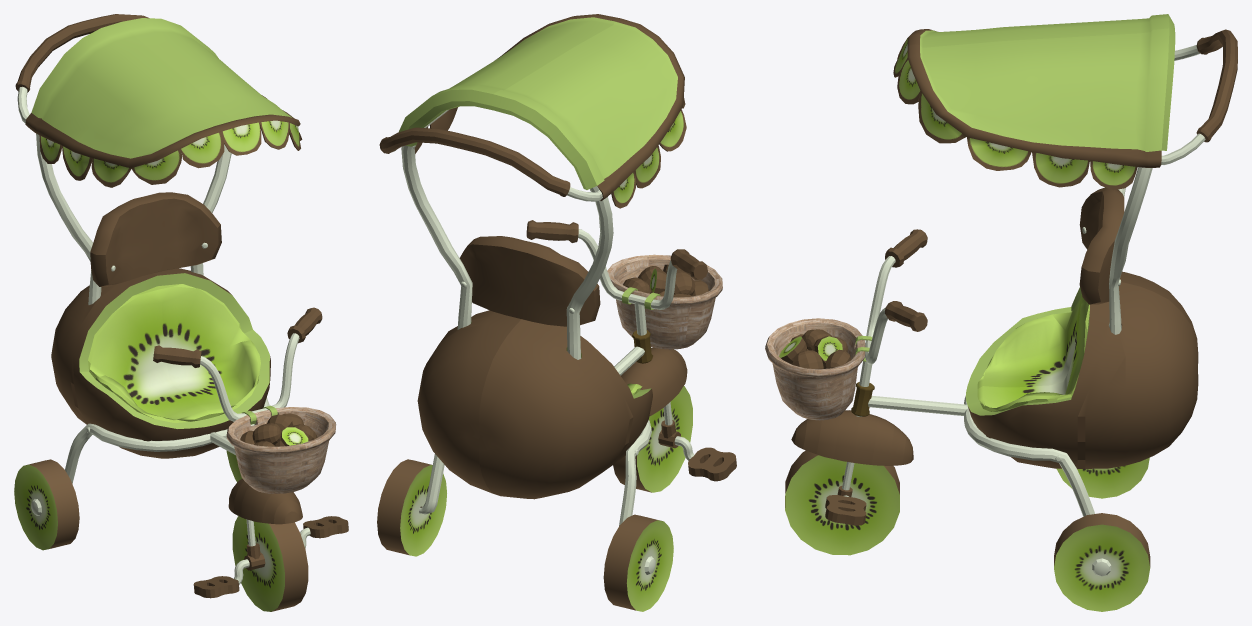
Rendered from Trike.fbx.
3 views of the same model, side by side, from view 1: azimuth 30°, elevation 25°; view 2: azimuth 150°, elevation 25°; view 3: azimuth 270°, elevation 25° (orthographic). The views are drawn at different scales.
Parts seen in each view (by area): view 1: umbrella, kiwiseat, head_rest, basket, wheel1, wheel2, backsupport5, bottompipe, fender, handlecover, handlebars, handle2 (+4 smaller); view 2: kiwiseat, umbrella, head_rest, wheel2, basket, backsupport5, wheel3, wheel1, handlecover, fender, bottompipe, handlebars (+3 smaller); view 3: umbrella, kiwiseat, wheel1, wheel3, basket, fender, head_rest, bottompipe, backsupport5, handlecover, wheel2, handlebars (+5 smaller).
Part boxes in pixels (x1,y1,x2,y2): umbrella: (25,18,302,187); kiwiseat: (51,268,270,458); head_rest: (90,192,221,286); basket: (226,407,336,493); wheel1: (232,516,308,611); wheel2: (14,459,79,550); backsupport5: (36,133,231,304); bottompipe: (31,397,269,515); fender: (228,479,302,524); handlecover: (15,14,149,92); handlebars: (200,333,299,425); handle2: (153,345,201,367); kiwiseat: (417,310,652,499); umbrella: (399,14,686,208); head_rest: (459,236,600,326); wheel2: (603,514,673,611); basket: (607,254,722,349); backsupport5: (401,145,613,359); wheel3: (377,459,446,556); wheel1: (613,386,692,492); handlecover: (379,127,570,196); fender: (621,347,687,416); bottompipe: (419,420,655,574); handlebars: (578,229,677,335); umbrella: (893,14,1175,190); kiwiseat: (965,271,1198,468); wheel1: (785,450,899,555); wheel3: (1054,513,1150,611); basket: (765,318,865,420); fender: (791,410,913,465); head_rest: (1079,187,1124,304); bottompipe: (964,396,1111,576); backsupport5: (1109,167,1152,334); handlecover: (1196,29,1237,142); wheel2: (1056,457,1149,498); handlebars: (856,256,895,416).
Bounding box in the file's own units: 42.28 × 80.01 × 65.81.
